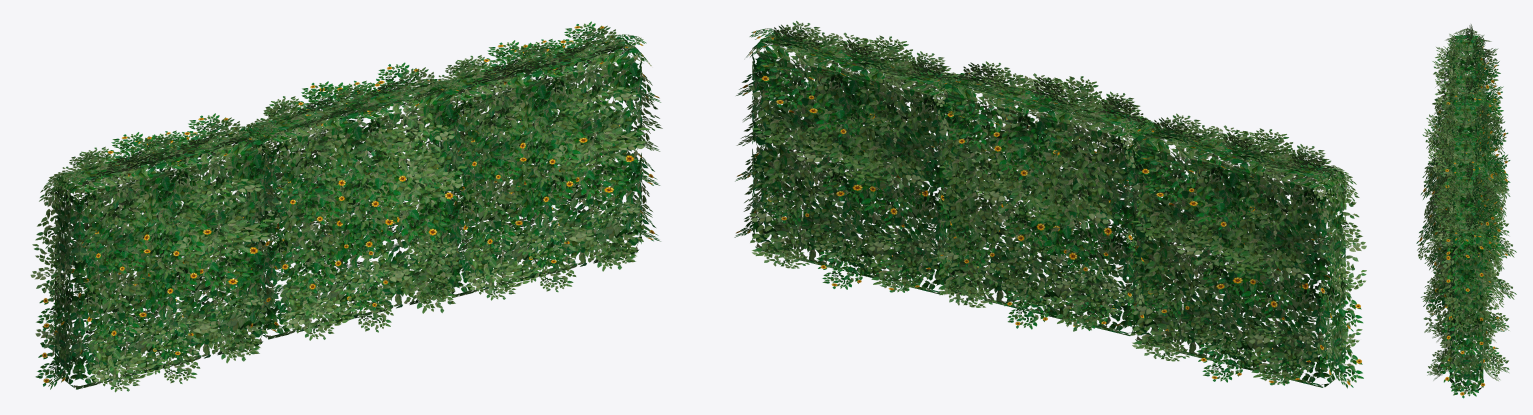
File: fence1.glb
3 views of the same model, side by side, from view 1: azimuth 30°, elevation 25°; view 2: azimuth 150°, elevation 25°; view 3: azimuth 270°, elevation 25° (orthographic). The views are drawn at different scales.
Visible parts, largest first — view 1: Arbusto_Decorativo_2_L0, Arbusto_Decorativo_2_L0_lambert2_0.001, Arbusto_Decorativo_2_L1_lambert2_0.001, Arbusto_Decorativo_2_L1_lambert3_0.001, Arbusto_Decorativo_2_L0_lambert3_0.001, Arbusto_Decorativo_2_L1_lambert4_0.001, Arbusto_Decorativo_2_L0_lambert4_0.001, Arbusto_Decorativo_2_L1_lambert5_0.001, Arbusto_Decorativo_2_L0_lambert5_0.001; view 2: Arbusto_Decorativo_2_L0, Arbusto_Decorativo_2_L0_lambert2_0.001, Arbusto_Decorativo_2_L1_lambert3_0.001, Arbusto_Decorativo_2_L1_lambert2_0.001, Arbusto_Decorativo_2_L0_lambert3_0.001, Arbusto_Decorativo_2_L0_lambert4_0.001, Arbusto_Decorativo_2_L1_lambert4_0.001, Arbusto_Decorativo_2_L0_lambert5_0.001, Arbusto_Decorativo_2_L1_lambert5_0.001; view 3: Arbusto_Decorativo_2_L0, Arbusto_Decorativo_2_L1_lambert3_0.001, Arbusto_Decorativo_2_L1_lambert4_0.001, Arbusto_Decorativo_2_L0_lambert3_0.001, Arbusto_Decorativo_2_L1_lambert2_0.001, Arbusto_Decorativo_2_L1_lambert5_0.001, Arbusto_Decorativo_2_L0_lambert2_0.001, Arbusto_Decorativo_2_L0_lambert4_0.001, Arbusto_Decorativo_2_L0_lambert5_0.001.
Part boxes in pixels (<box>): Arbusto_Decorativo_2_L0: <box>414,21,662,300</box>; Arbusto_Decorativo_2_L0_lambert2_0.001: <box>55,129,265,389</box>; Arbusto_Decorativo_2_L1_lambert2_0.001: <box>247,79,457,339</box>; Arbusto_Decorativo_2_L1_lambert3_0.001: <box>222,67,484,340</box>; Arbusto_Decorativo_2_L0_lambert3_0.001: <box>35,117,286,392</box>; Arbusto_Decorativo_2_L1_lambert4_0.001: <box>225,62,479,334</box>; Arbusto_Decorativo_2_L0_lambert4_0.001: <box>35,113,283,389</box>; Arbusto_Decorativo_2_L1_lambert5_0.001: <box>223,99,466,333</box>; Arbusto_Decorativo_2_L0_lambert5_0.001: <box>30,147,273,385</box>; Arbusto_Decorativo_2_L0: <box>734,21,985,294</box>; Arbusto_Decorativo_2_L0_lambert2_0.001: <box>1132,125,1345,387</box>; Arbusto_Decorativo_2_L1_lambert3_0.001: <box>919,61,1173,331</box>; Arbusto_Decorativo_2_L1_lambert2_0.001: <box>939,73,1152,335</box>; Arbusto_Decorativo_2_L0_lambert3_0.001: <box>1120,113,1362,385</box>; Arbusto_Decorativo_2_L0_lambert4_0.001: <box>1115,121,1363,388</box>; Arbusto_Decorativo_2_L1_lambert4_0.001: <box>922,71,1172,331</box>; Arbusto_Decorativo_2_L0_lambert5_0.001: <box>1132,125,1366,361</box>; Arbusto_Decorativo_2_L1_lambert5_0.001: <box>939,72,1174,308</box>; Arbusto_Decorativo_2_L0: <box>1423,161,1509,398</box>; Arbusto_Decorativo_2_L1_lambert3_0.001: <box>1420,90,1516,306</box>; Arbusto_Decorativo_2_L1_lambert4_0.001: <box>1416,111,1510,324</box>; Arbusto_Decorativo_2_L0_lambert3_0.001: <box>1428,24,1509,242</box>; Arbusto_Decorativo_2_L1_lambert2_0.001: <box>1448,101,1482,317</box>; Arbusto_Decorativo_2_L1_lambert5_0.001: <box>1417,125,1507,309</box>; Arbusto_Decorativo_2_L0_lambert2_0.001: <box>1449,35,1483,241</box>; Arbusto_Decorativo_2_L0_lambert4_0.001: <box>1428,43,1505,228</box>; Arbusto_Decorativo_2_L0_lambert5_0.001: <box>1423,57,1501,242</box>.
Size of the model in its own units: 323 by 117 by 62.58.
Materials: 4 (4 with a texture image).
